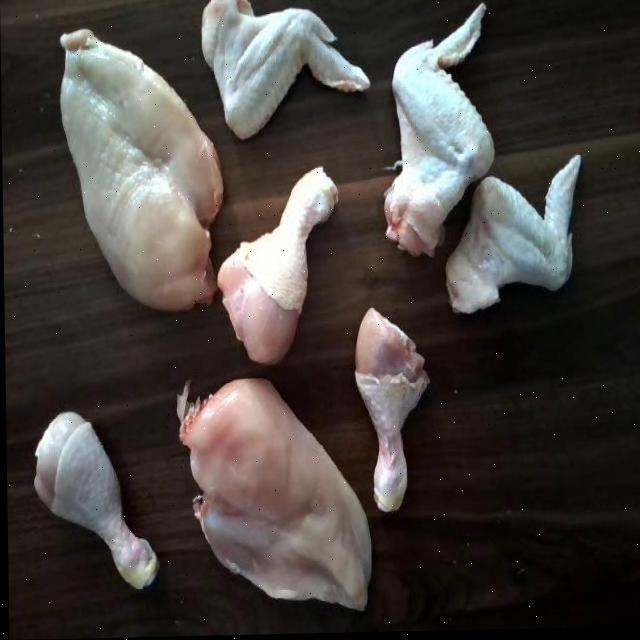breast: (51, 23, 226, 313), (179, 373, 375, 625)
leg: (23, 406, 158, 598), (220, 158, 340, 370), (351, 309, 430, 526)
wing: (434, 143, 594, 327), (184, 0, 372, 143), (382, 12, 484, 267)
